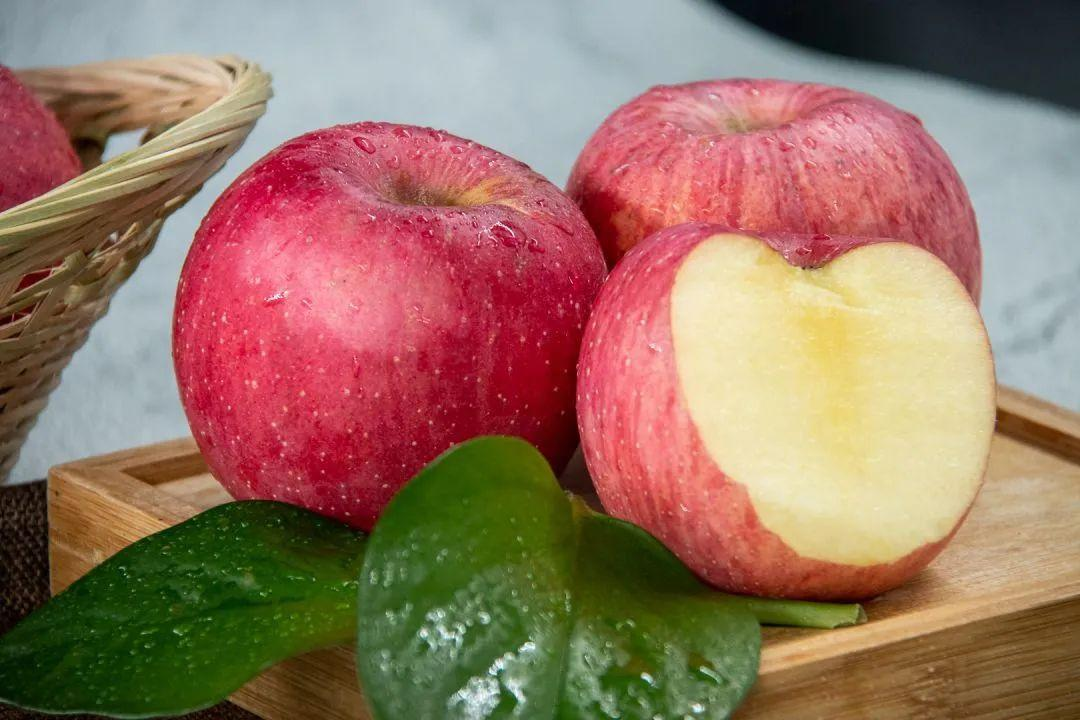apple: (169, 119, 607, 531)
